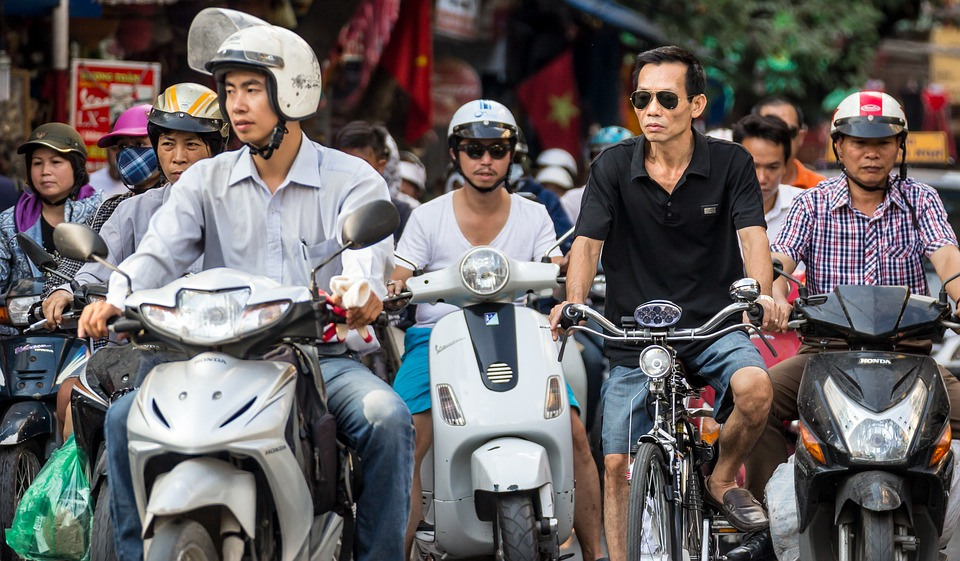helmet: (187, 9, 322, 150), (445, 99, 524, 194), (831, 91, 914, 180), (147, 83, 231, 157), (21, 122, 90, 185)
